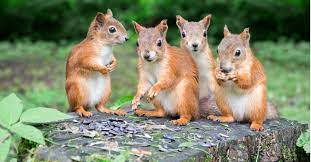squirrel: (64, 6, 130, 120), (129, 20, 200, 123), (215, 26, 276, 132), (175, 14, 221, 123)
